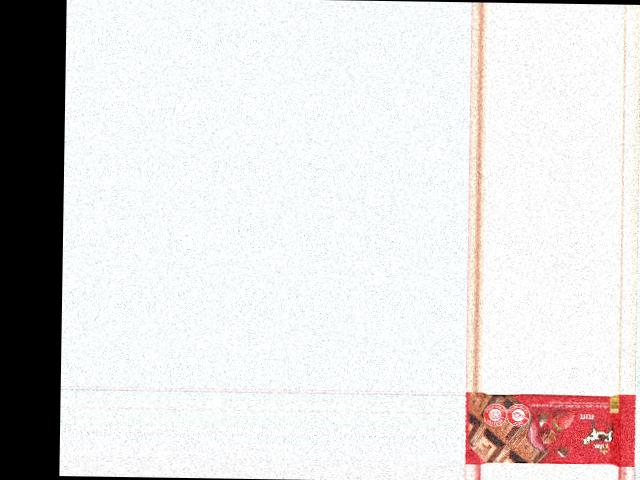chocolate: (465, 391, 637, 466)
